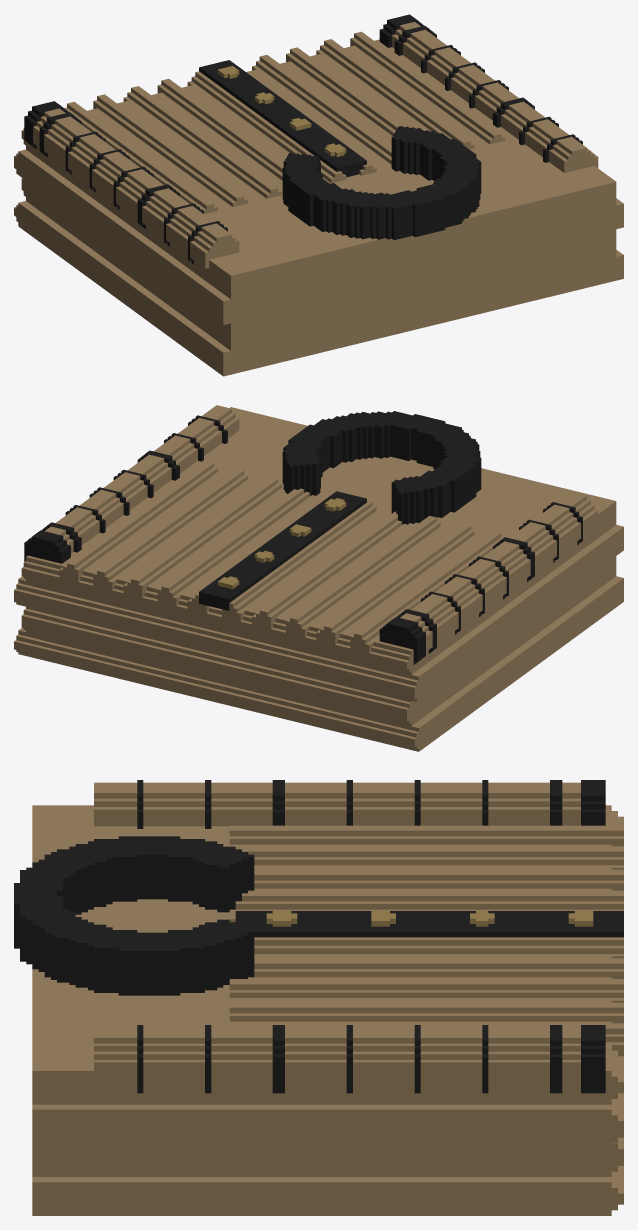
Rendered from gambeson_nylon_thinsleeved.glb.
The picture shows the model from 3 angles, top to bottom: view 1: azimuth 30°, elevation 25°; view 2: azimuth 150°, elevation 25°; view 3: azimuth 270°, elevation 25°; orthographic projection. The views are drawn at different scales.
Parts seen in each view (by area): view 1: gambeson_nylon_thinsleeved:compound; view 2: gambeson_nylon_thinsleeved:compound; view 3: gambeson_nylon_thinsleeved:compound.
Part boxes in pixels (x1,y1,x2,y2): gambeson_nylon_thinsleeved:compound: [14, 14, 623, 376]; gambeson_nylon_thinsleeved:compound: [14, 405, 623, 751]; gambeson_nylon_thinsleeved:compound: [14, 780, 623, 1215].
Size of the model in its own units: 0.424 by 0.132 by 0.396.
